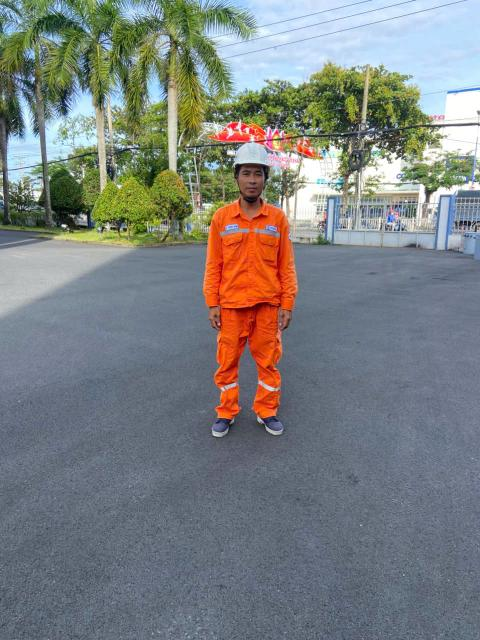helmet: (229, 136, 279, 172)
shoes: (243, 405, 287, 442), (205, 409, 244, 443)
